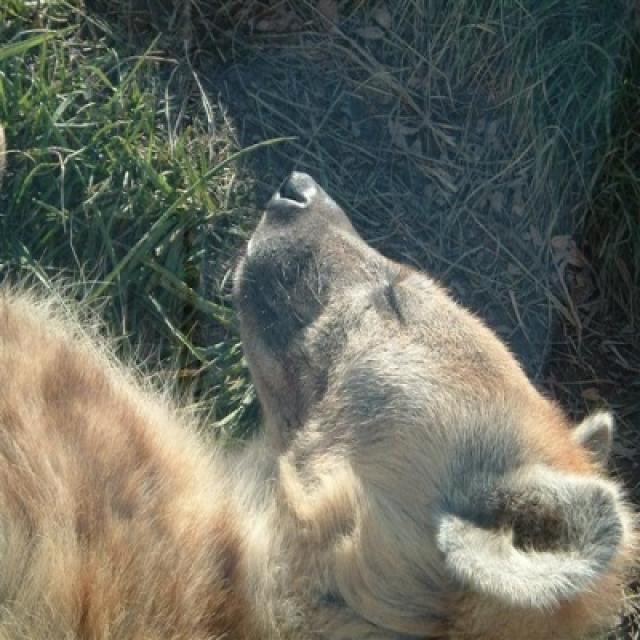hyena: (0, 173, 638, 638)
